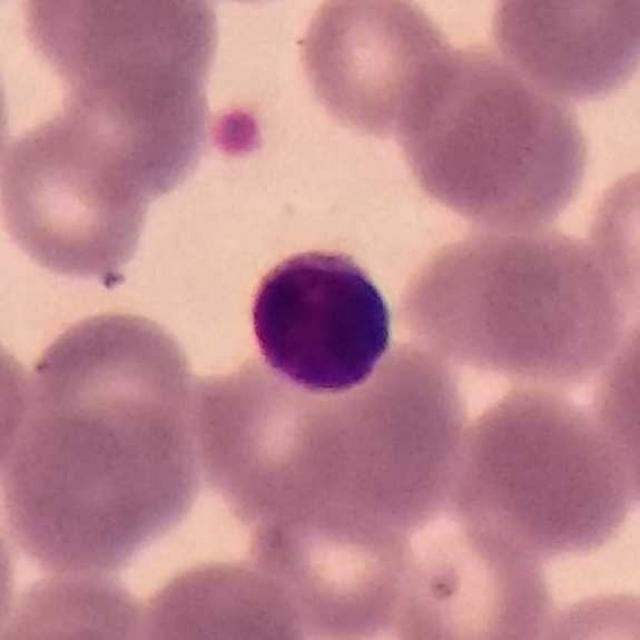Lymphocyte: (230, 242, 399, 406)
Platelets: (210, 101, 270, 162)
RBC: (392, 46, 594, 234), (0, 393, 207, 575), (393, 224, 628, 383), (290, 346, 470, 537), (17, 303, 204, 475), (450, 383, 636, 554), (244, 481, 418, 640), (0, 115, 154, 288), (289, 0, 462, 140), (48, 64, 210, 204), (18, 0, 224, 105), (384, 511, 551, 640), (483, 0, 640, 102), (131, 553, 313, 640), (1, 566, 162, 640), (592, 296, 640, 519), (581, 152, 640, 310), (285, 587, 458, 640), (527, 583, 640, 640), (0, 319, 36, 492), (0, 491, 22, 640), (0, 34, 18, 202)
